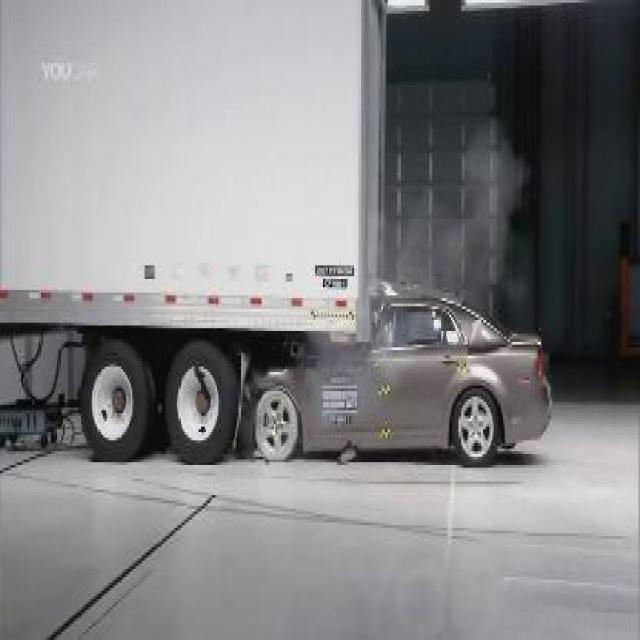accident: (0, 2, 557, 460)
